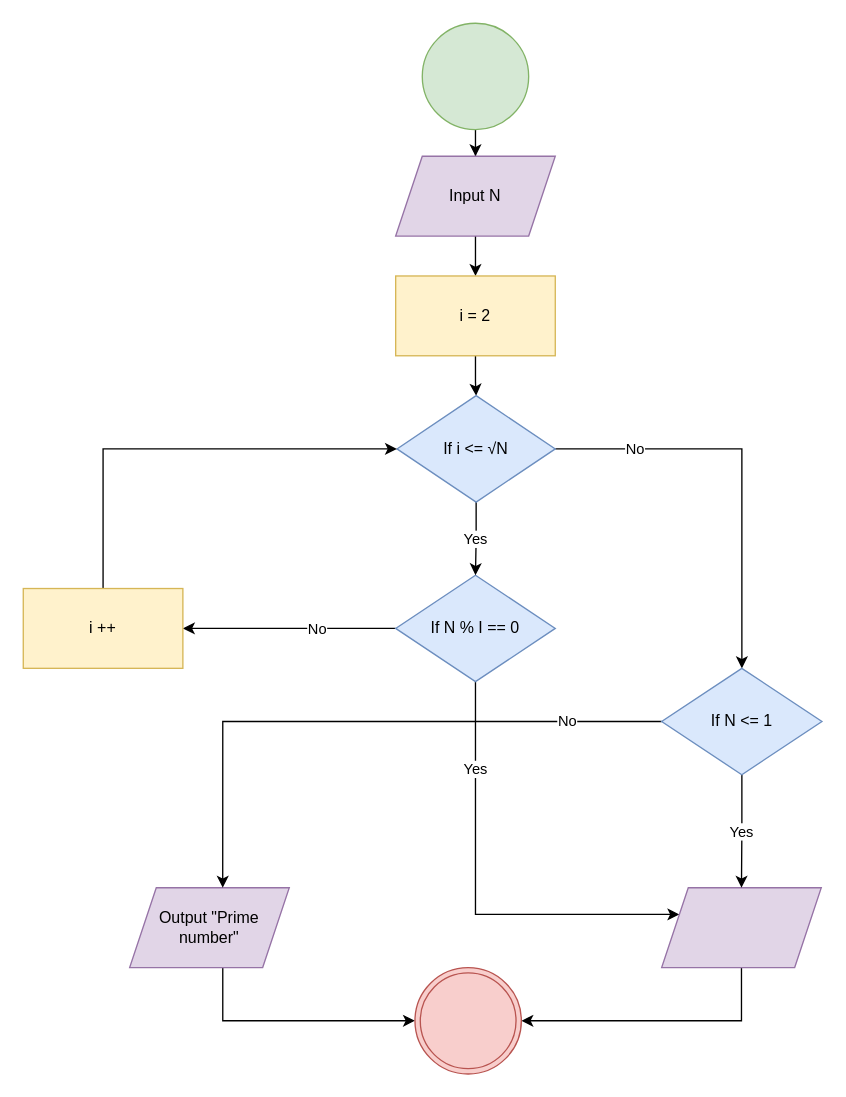
This 846x1097 diagram has some shape labels left out. Each missing label, with the centre of its shape:
Finish: the point at 467,1020
Output "Not a prime number": the point at 740,927
Start: the point at 475,76
